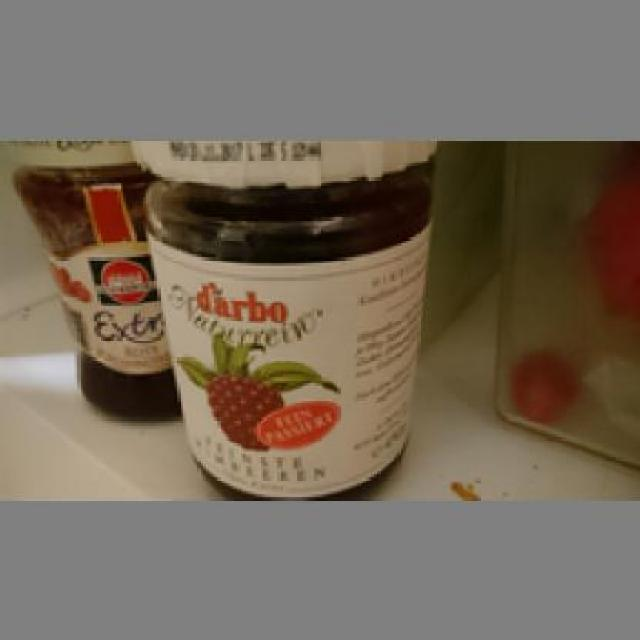Jam: (126, 137, 440, 497), (5, 140, 178, 420)
